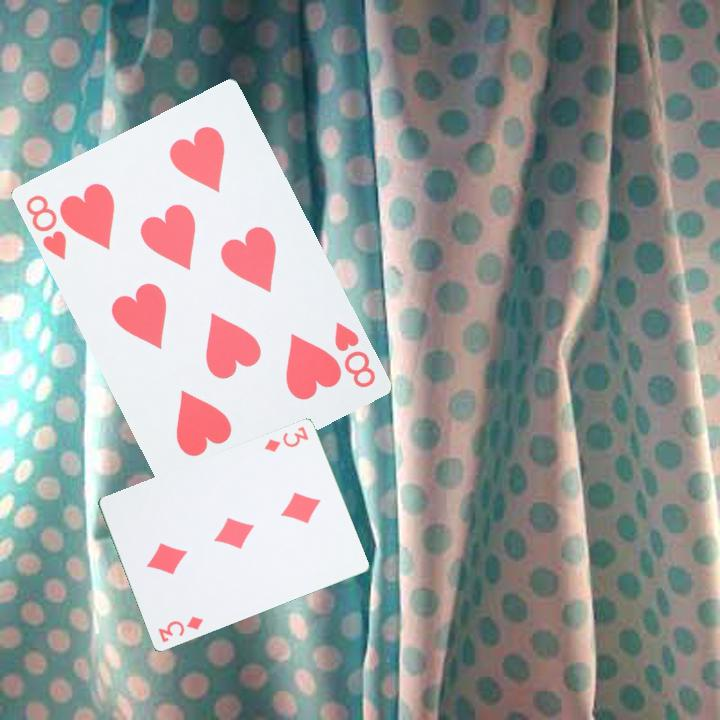3d: (154, 612, 206, 645), (260, 422, 311, 455)
8h: (330, 317, 379, 391), (21, 190, 70, 263)
